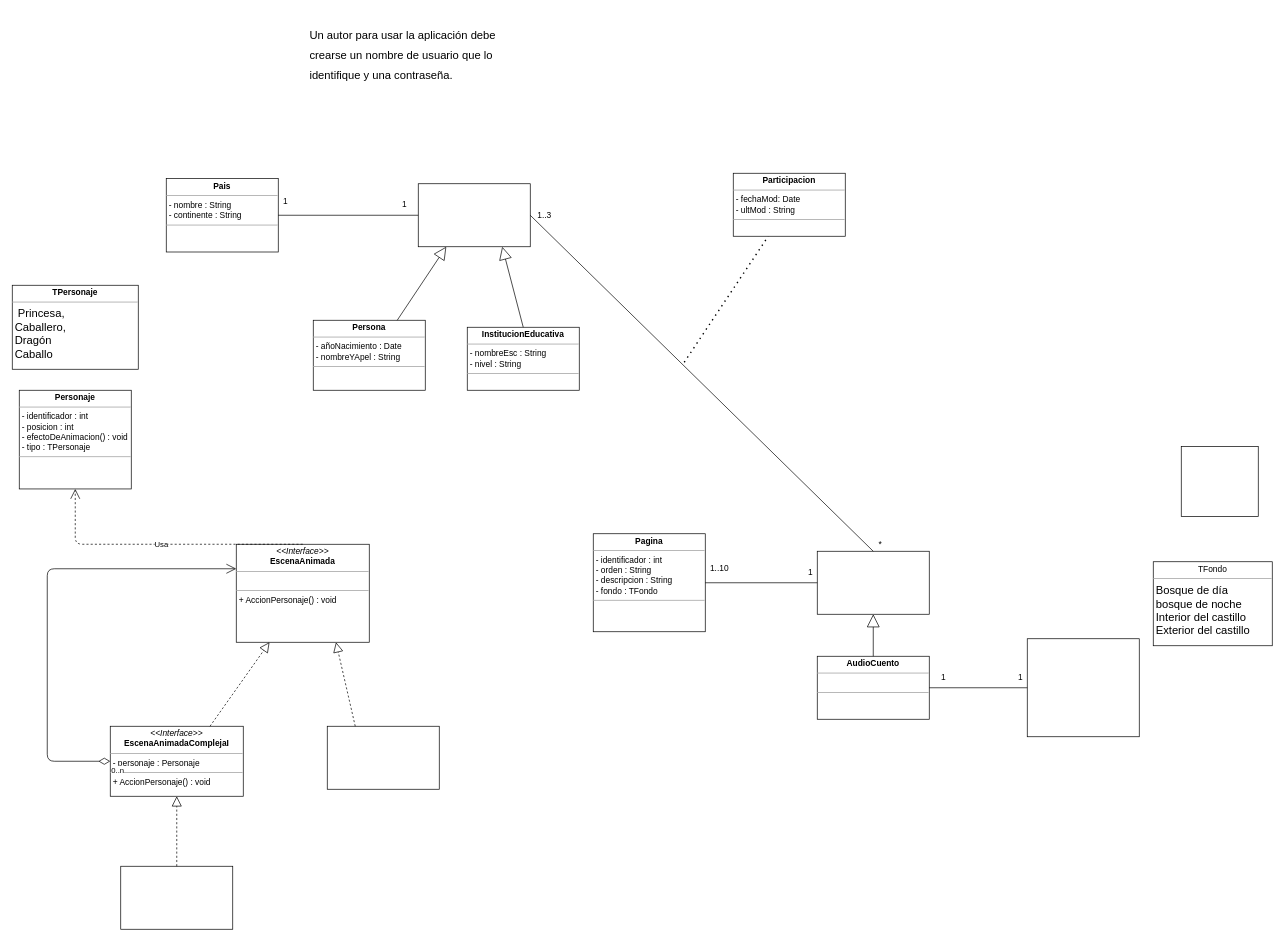
This 1285x942 diagram has some shape labels left out. Each missing label, with the box of its shape:
ArchivoDeAudio - nombre : String - formato : TFormato - duracion : int: (1027, 638, 1139, 737)
Autor - pais : Pais: (418, 183, 530, 247)
Cuento - nombre : String - identificador : int: (817, 551, 929, 614)
EscenaAnimadaCompleja - personaje + AccionPersonaje() : void: (120, 866, 233, 929)
EscenaAnimadaSimple - personaje : Personaje + AccionPersonaje() : void: (327, 726, 439, 789)
TFormato Mp3 wav: (1181, 446, 1258, 517)
